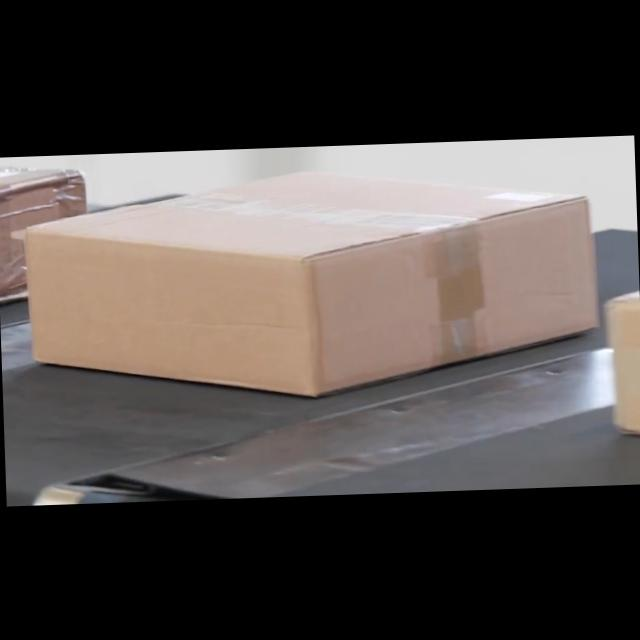box: (24, 160, 602, 404)
